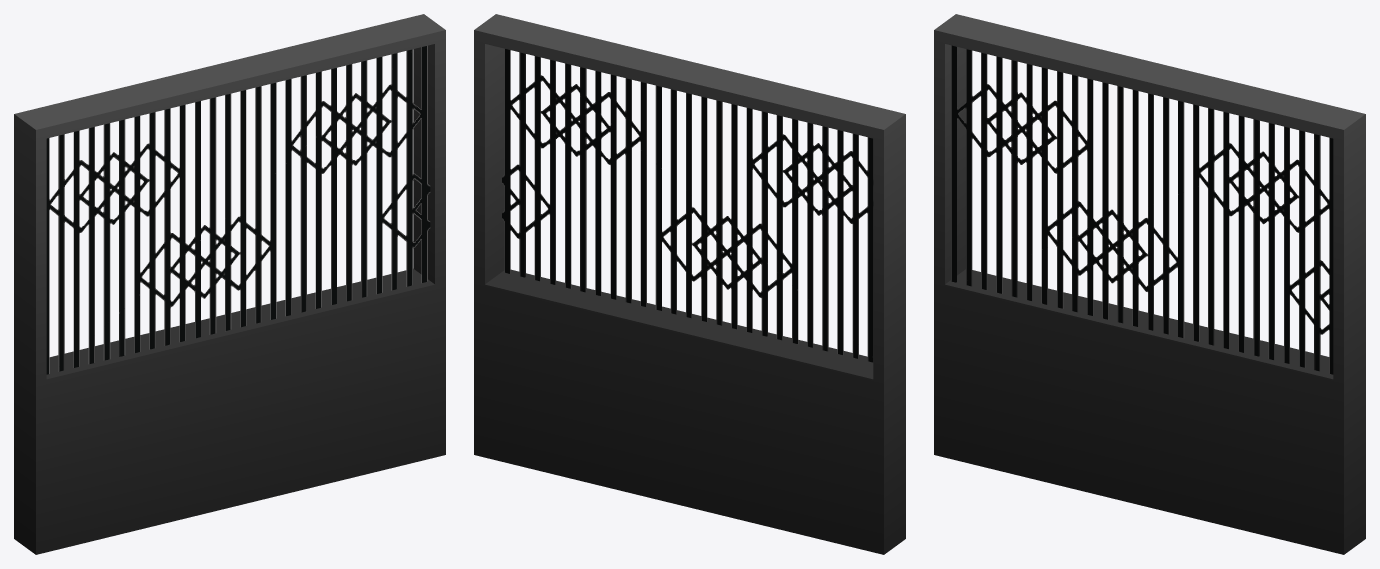
File: MiniGate1.fbx
3 views of the same model, side by side, from view 1: azimuth 30°, elevation 25°; view 2: azimuth 150°, elevation 25°; view 3: azimuth 330°, elevation 25° (orthographic).
Visible parts, largest first — view 1: MiniGate1_LOD0; view 2: MiniGate1_LOD0; view 3: MiniGate1_LOD0.
Part boxes in pixels (x1,y1,x2,y2): MiniGate1_LOD0: [14, 14, 445, 554]; MiniGate1_LOD0: [474, 14, 905, 554]; MiniGate1_LOD0: [934, 14, 1365, 554].
Size of what is drawn, in the model's own units: 135 by 134 by 12.5.
